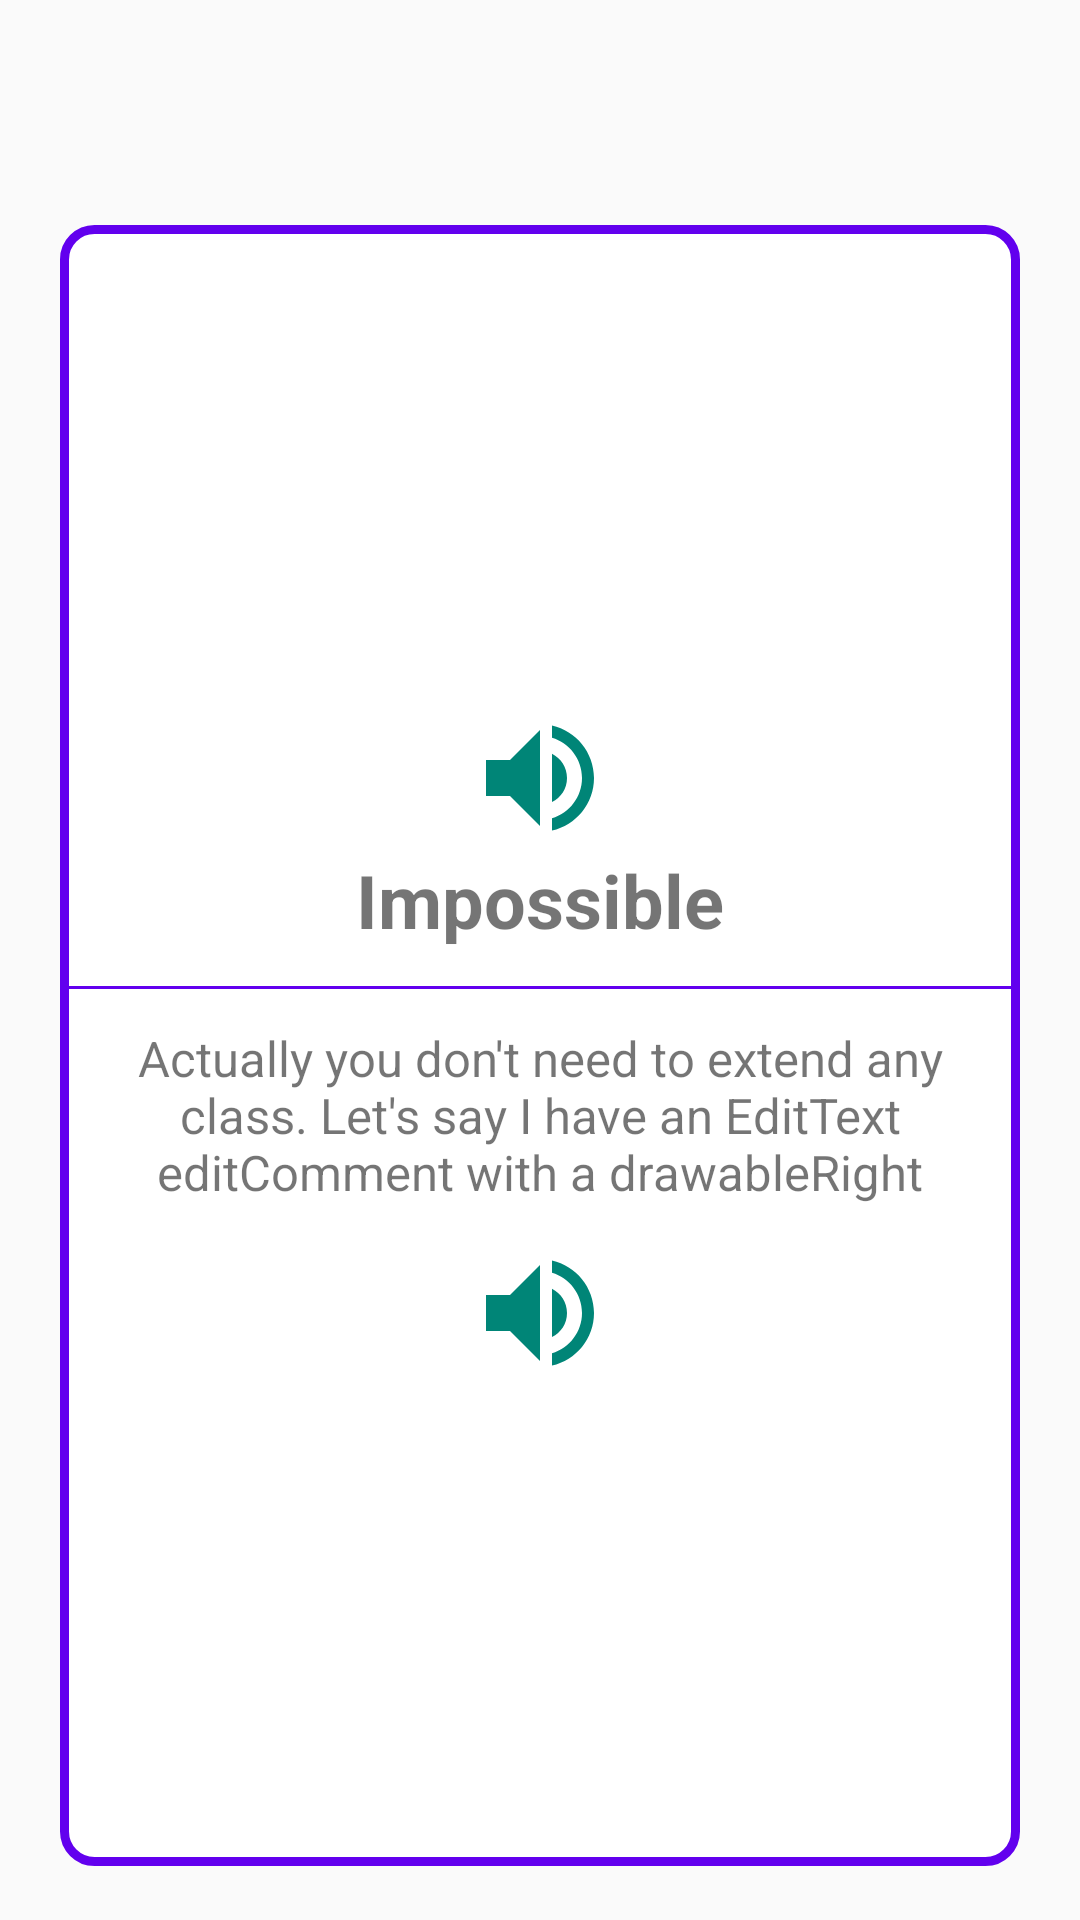

Screen size 1080 × 1920. Icon name, then its center in pixels as (x,y):
volume up: (540,778), (540,1313)
